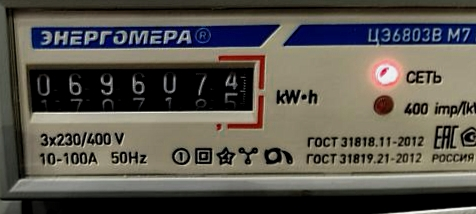0: (34, 72, 53, 97), (161, 69, 178, 95)
4: (223, 68, 239, 90)
5: (223, 91, 239, 111)
6: (129, 69, 147, 96), (66, 71, 84, 96)
7: (193, 70, 209, 96)
9: (98, 70, 114, 96)
screen: (16, 52, 269, 132)
